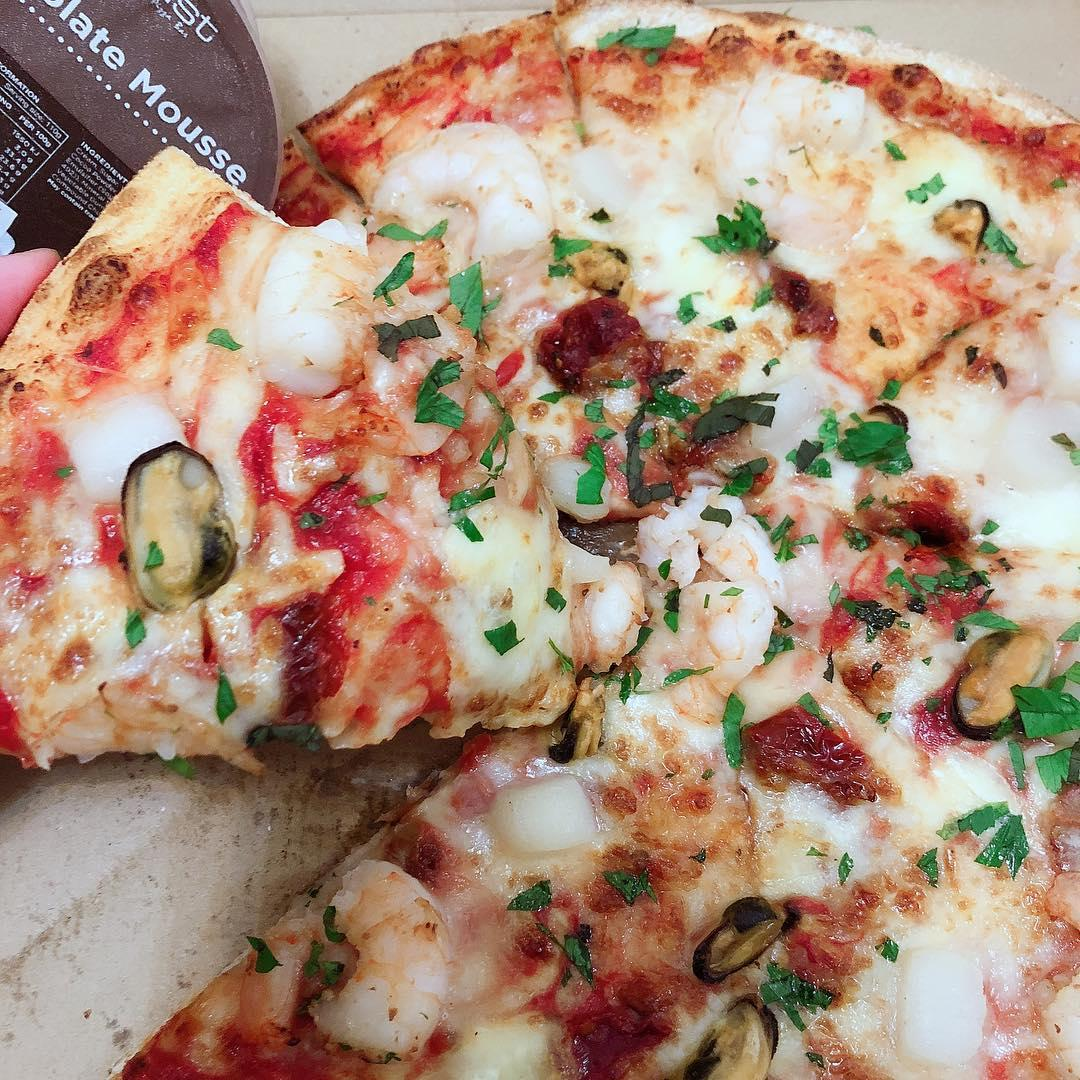Basil: (581, 398, 767, 512), (401, 371, 523, 503), (374, 228, 487, 367), (921, 788, 1029, 887), (788, 411, 909, 487), (1018, 681, 1080, 787), (581, 21, 689, 65), (711, 188, 772, 256)
Ham: (531, 288, 669, 405), (741, 701, 889, 803), (548, 968, 683, 1058)
Pizza: (1, 1, 1080, 1080)
